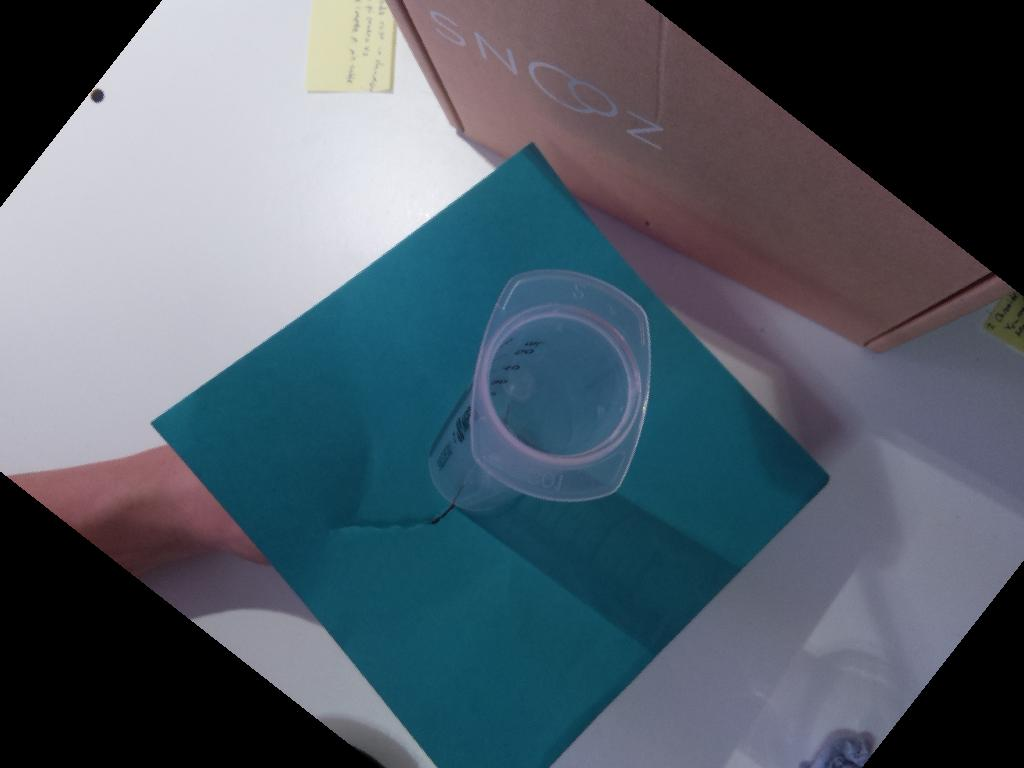clean: (470, 269, 651, 506)
